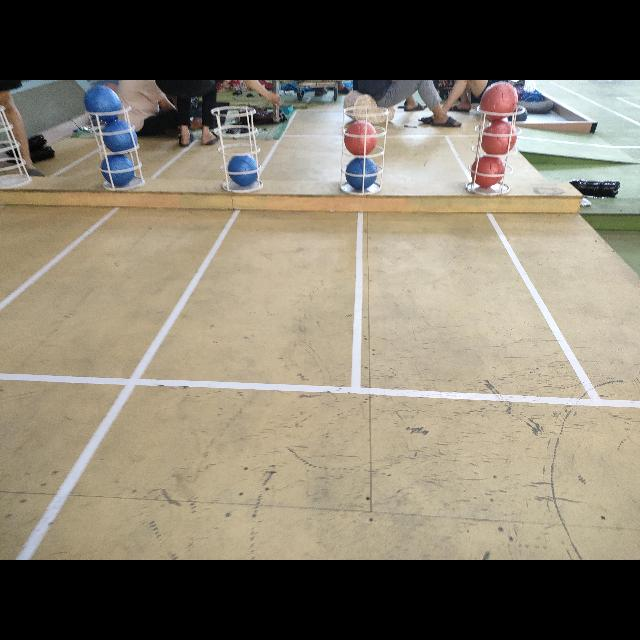B: (85, 85, 122, 123), (104, 120, 138, 154), (102, 154, 134, 186), (228, 156, 260, 186), (347, 158, 378, 188)
R: (482, 82, 518, 120), (480, 120, 516, 156), (344, 122, 376, 156), (472, 156, 504, 188)
